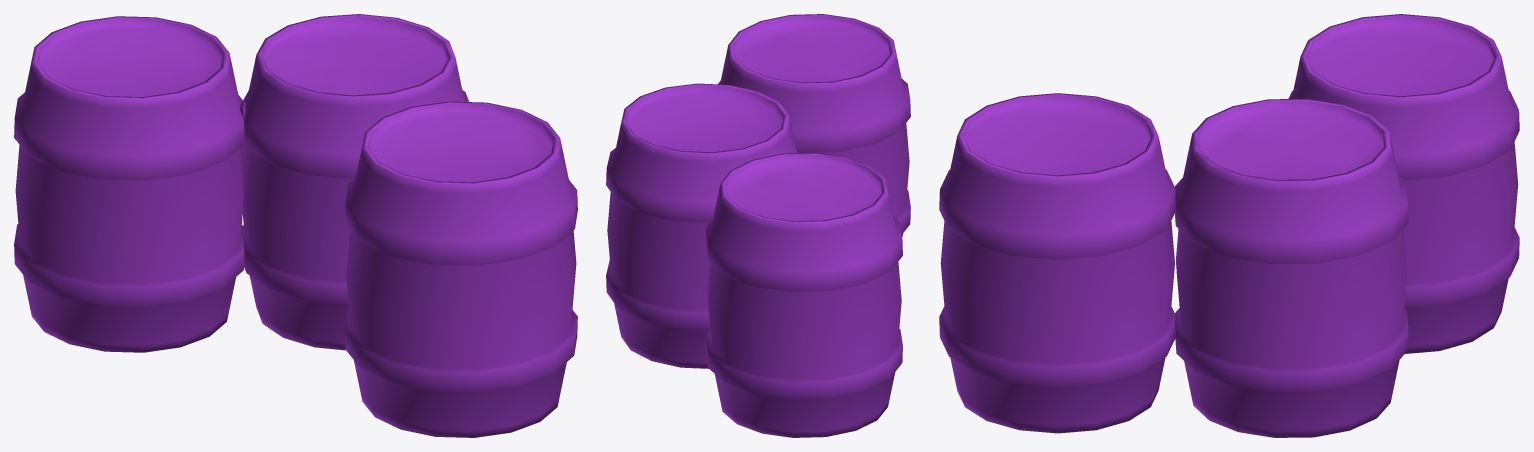
File: Barrel_Multi_01A_Lod0.fbx
The picture shows the model from 3 angles, left to right: view 1: azimuth 30°, elevation 25°; view 2: azimuth 150°, elevation 25°; view 3: azimuth 270°, elevation 25°; orthographic projection. The views are drawn at different scales.
Parts seen in each view (by area): view 1: Barrel_Multi_01A_Lod0; view 2: Barrel_Multi_01A_Lod0; view 3: Barrel_Multi_01A_Lod0.
Part boxes in pixels (box(x1,y1,x2,y2)): Barrel_Multi_01A_Lod0: box(14, 14, 577, 437); Barrel_Multi_01A_Lod0: box(606, 14, 910, 437); Barrel_Multi_01A_Lod0: box(939, 14, 1519, 437).
Size of the model in its own units: 123 by 79.88 by 165.
